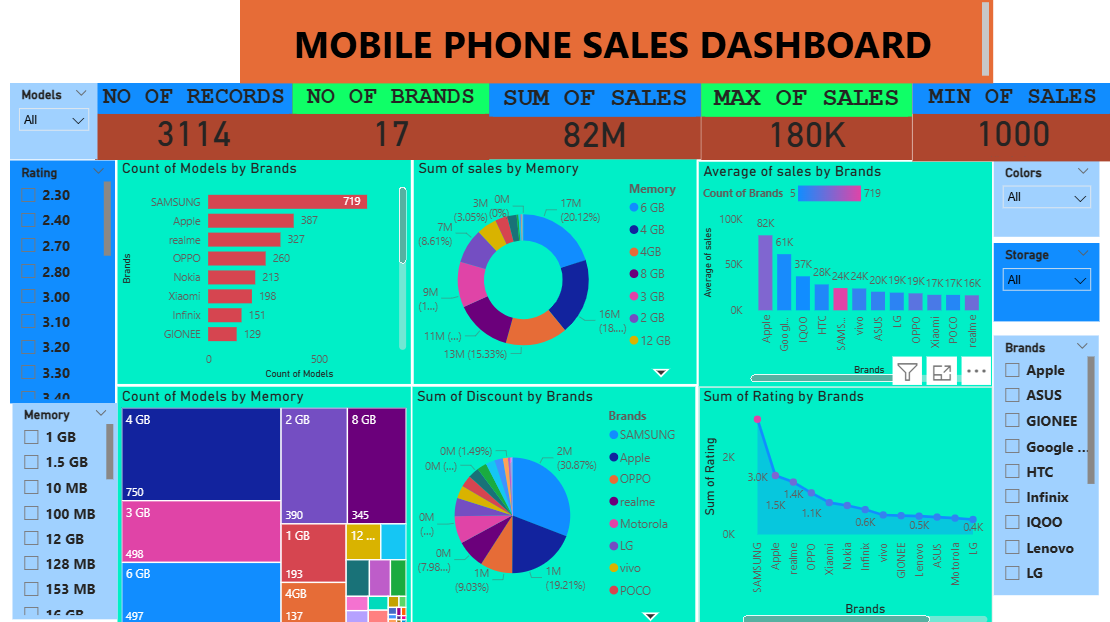

This screenshot's page, from the dashboard's own definition file:
{"tool":"powerbi","page":{"name":"Page 1","canvas":[1280,720],"ordinal":0},"visuals":[{"type":"clusteredBarChart","fields":{"Category":["Sales.Brands"],"Y":["CountNonNull(Sales.Models)"]},"box":[139.4,184.6,335.1,256.8],"z":0},{"type":"columnChart","fields":{"Category":["Sales.Brands"],"Y":["Avg(Sales.sales)"]},"box":[804.6,187.1,335.1,256.8],"z":1000},{"type":"donutChart","fields":{"Y":["Sum(Sales.sales)"],"Category":["Sales.Memory"]},"box":[478.1,184.6,322.8,256.8],"z":2000},{"type":"treemap","fields":{"Group":["Sales.Memory"],"Values":["CountNonNull(Sales.Models)"]},"box":[139.4,443.9,335.1,276.4],"z":3000},{"type":"pieChart","fields":{"Y":["Sum(Sales.Discount)"],"Category":["Sales.Brands"]},"box":[476.9,444.9,322.8,275.1],"z":4000},{"type":"slicer","fields":{"Values":["Sales.Colors"]},"box":[1140.9,185.9,121.1,86.8],"z":5000},{"type":"slicer","fields":{"Values":["Sales.Storage"]},"box":[1140.9,280,121.1,89.3],"z":6000},{"type":"slicer","fields":{"Values":["Sales.Brands"]},"box":[1142.1,386.4,119.8,297.1],"z":7000},{"type":"card","title":"NO OF RECORDS","fields":{"Values":["CountNonNull(Sales.Brands)"]},"box":[113.7,96.6,226.2,88],"z":8000},{"type":"card","title":"SUM OF SALES","fields":{"Values":["Sum(Sales.sales)"]},"box":[564.9,97.8,242.1,86.8],"z":9000},{"type":"stackedAreaChart","fields":{"Category":["Sales.Brands"],"Y":["Sum(Sales.Rating)"]},"box":[804.6,444.9,335.1,275.1],"z":11000},{"type":"card","title":"MAX OF SALES","fields":{"Values":["Max(Sales.sales)"]},"box":[807.1,97.8,240.9,88],"z":12000},{"type":"card","title":"NO OF BRANDS","fields":{"Values":["Count(Sales.Brands)"]},"box":[339.9,96.6,225,88],"z":13000},{"type":"card","title":"MIN OF SALES","fields":{"Values":["Min(Sales.sales)"]},"box":[1048,96.6,229.9,89.3],"z":14000},{"type":"slicer","fields":{"Values":["Sales.Rating"]},"box":[17.1,185.9,119.8,277.6],"z":15000},{"type":"slicer","fields":{"Values":["Sales.Memory"]},"box":[19.6,463.5,119.8,247],"z":16000},{"type":"slicer","fields":{"Values":["Sales.Models"]},"box":[17.1,96.6,100.3,86.8],"z":17000},{"type":"textbox","box":[280,0,860.9,97.8],"z":18000}]}

Visuals, with their boxes in screenshot pixels (x1, y1, x2, y2), scaled from the page's 1280x720 canvas onto the 1110x622 screenshot:
clusteredBarChart - Sales.Brands x CountNonNull(Sales.Models): rect(121, 159, 411, 381)
columnChart - Sales.Brands x Avg(Sales.sales): rect(698, 162, 988, 383)
donutChart - Sum(Sales.sales) x Sales.Memory: rect(415, 159, 695, 381)
treemap - Sales.Memory x CountNonNull(Sales.Models): rect(121, 383, 411, 621)
pieChart - Sum(Sales.Discount) x Sales.Brands: rect(414, 384, 693, 621)
slicer - Sales.Colors: rect(989, 161, 1094, 236)
slicer - Sales.Storage: rect(989, 242, 1094, 319)
slicer - Sales.Brands: rect(990, 334, 1094, 590)
"NO OF RECORDS" card: rect(99, 83, 295, 159)
"SUM OF SALES" card: rect(490, 84, 700, 159)
stackedAreaChart - Sales.Brands x Sum(Sales.Rating): rect(698, 384, 988, 621)
"MAX OF SALES" card: rect(700, 84, 909, 161)
"NO OF BRANDS" card: rect(295, 83, 490, 159)
"MIN OF SALES" card: rect(909, 83, 1108, 161)
slicer - Sales.Rating: rect(15, 161, 119, 400)
slicer - Sales.Memory: rect(17, 400, 121, 614)
slicer - Sales.Models: rect(15, 83, 102, 158)
textbox: rect(243, 0, 989, 84)
